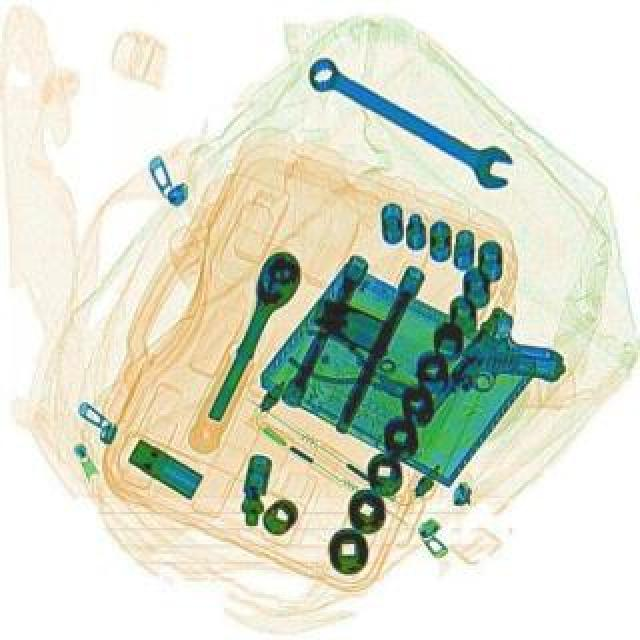gun: (408, 300, 576, 464)
scissors: (298, 48, 520, 196)
wrench: (284, 318, 428, 414)
